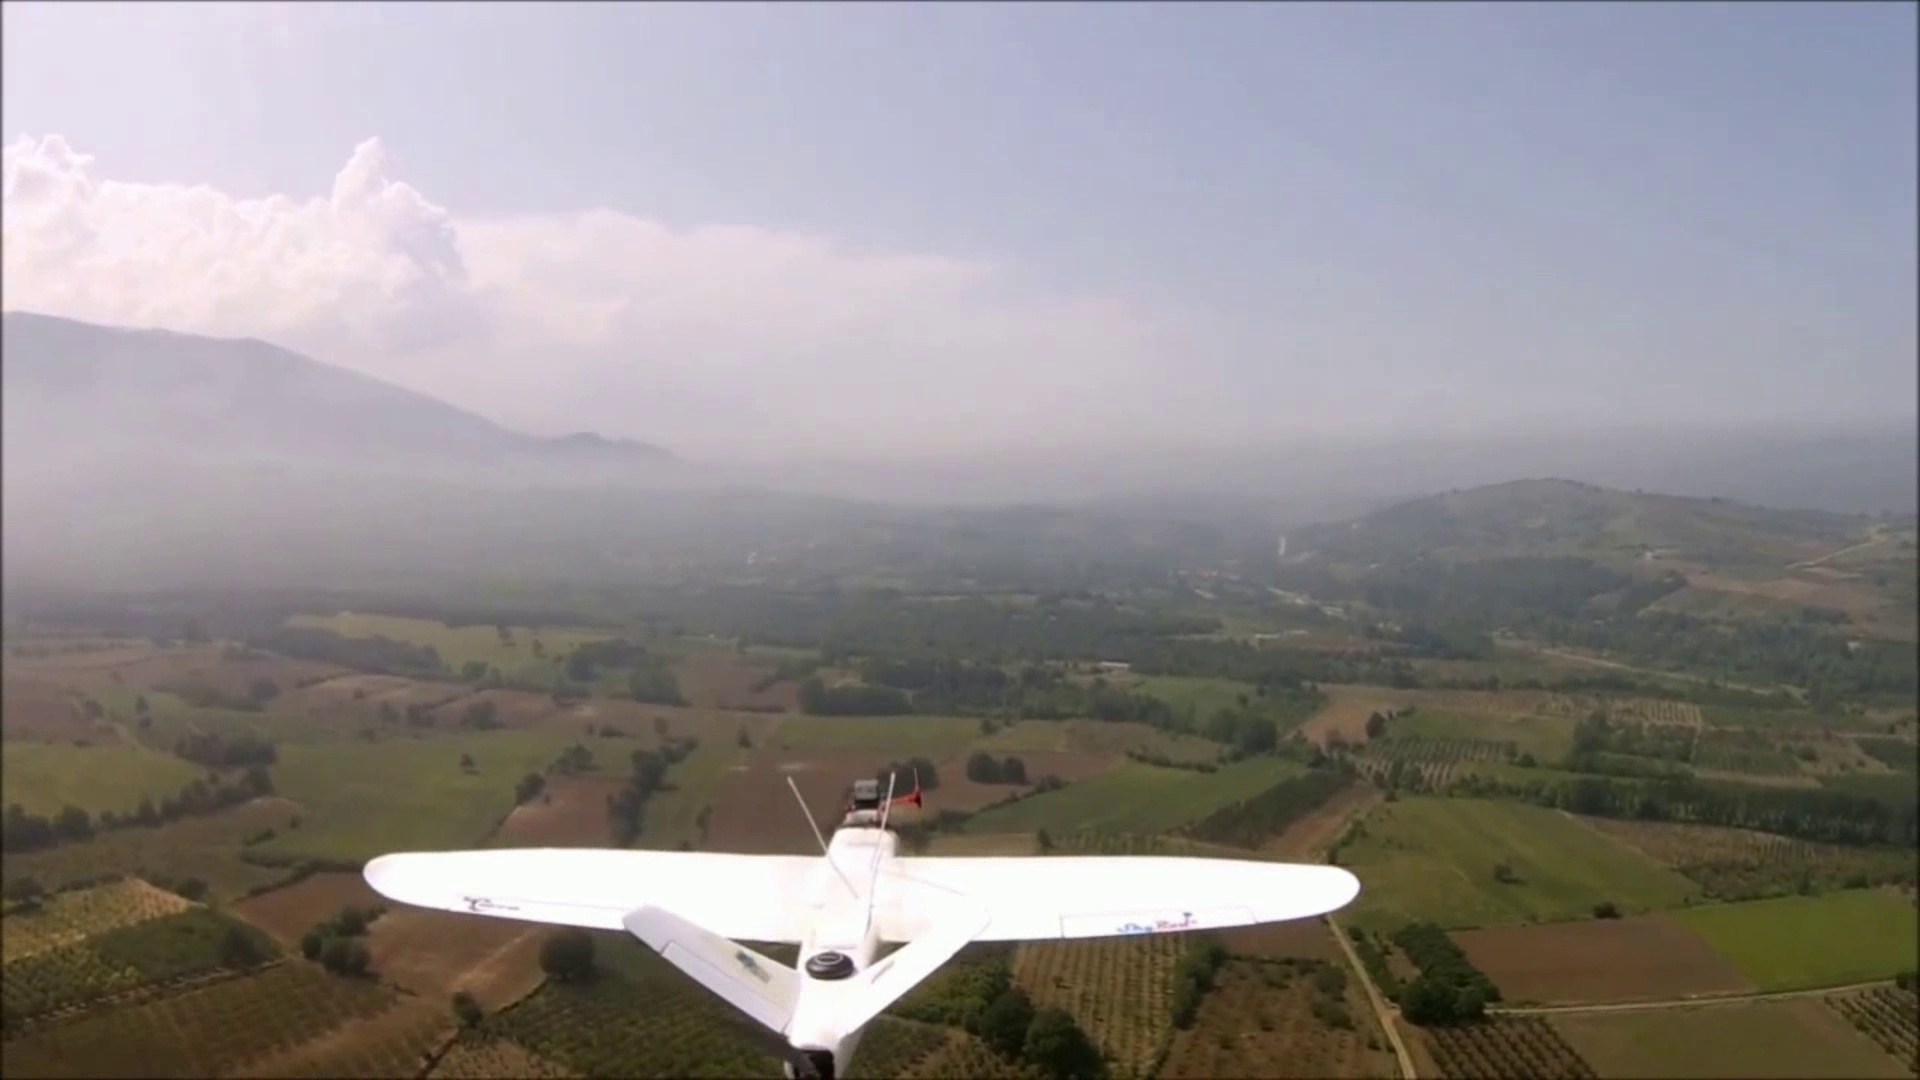airplane: (357, 760, 1365, 1072)
